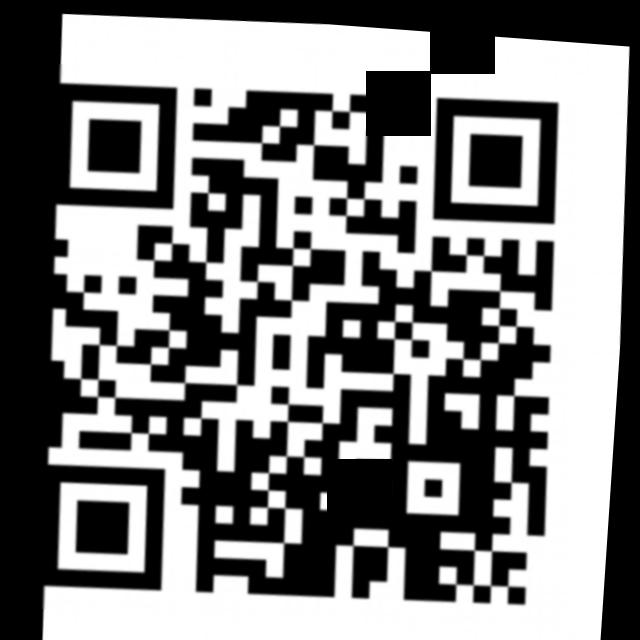QR_CODE: (7, 43, 605, 639)
